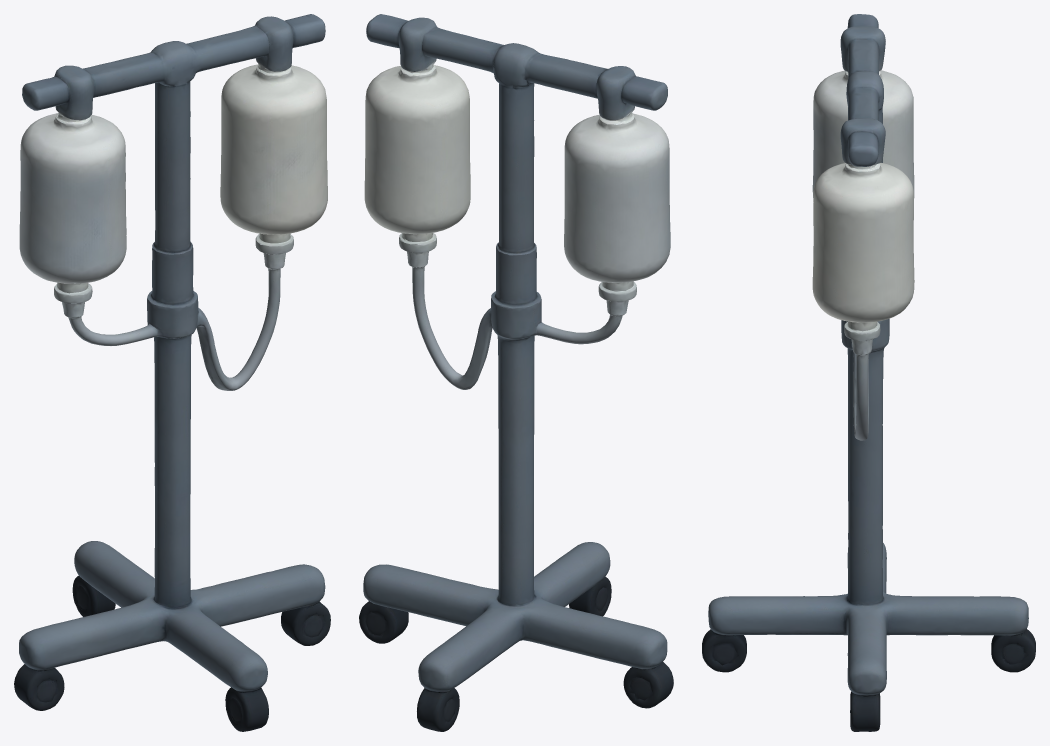
File: drip_stand.glb
The picture shows the model from 3 angles, left to right: view 1: azimuth 30°, elevation 25°; view 2: azimuth 150°, elevation 25°; view 3: azimuth 270°, elevation 25°; orthographic projection. The views are drawn at different scales.
Visible parts, largest first — view 1: Mesh; view 2: Mesh; view 3: Mesh.
Boxes of the visible parts, x1,y1,x2,y2 form: Mesh: [14, 14, 330, 731]; Mesh: [359, 14, 673, 731]; Mesh: [702, 14, 1035, 731].
Bounding box in the file's own units: 0.9655 × 1.9 × 0.9684.
Materials: 1 (1 with a texture image).
